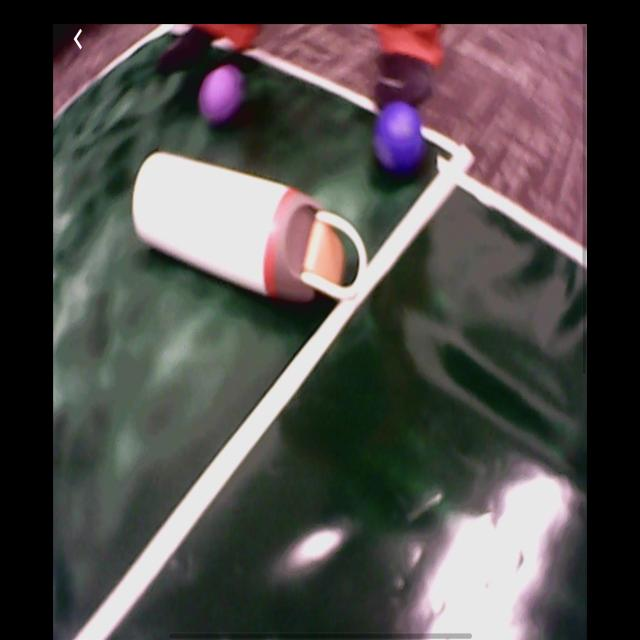ball: (376, 101, 424, 176), (200, 66, 246, 128)
